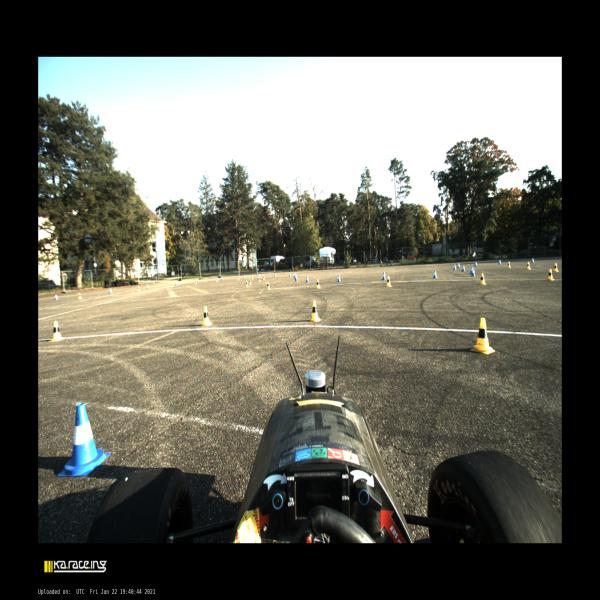blue_cone: (57, 402, 112, 478), (337, 274, 341, 282), (382, 272, 386, 280), (433, 270, 437, 278), (471, 268, 475, 276), (470, 266, 474, 274), (462, 264, 465, 272), (54, 295, 58, 300), (453, 264, 456, 270), (306, 276, 309, 282), (295, 276, 298, 281), (110, 288, 112, 293), (289, 272, 291, 277), (458, 263, 460, 268), (475, 261, 477, 266), (532, 258, 534, 263), (258, 273, 260, 278), (147, 285, 149, 289), (197, 279, 199, 283), (274, 273, 276, 277), (293, 273, 295, 277), (499, 260, 501, 264), (176, 282, 178, 285), (295, 274, 296, 279), (221, 278, 223, 280), (244, 275, 245, 278)
yellow_cone: (471, 318, 495, 354), (49, 320, 65, 343), (310, 300, 321, 322), (202, 307, 212, 326), (480, 273, 486, 285), (386, 276, 392, 287), (548, 269, 554, 280), (316, 279, 321, 289), (554, 263, 559, 272), (526, 262, 531, 269), (507, 261, 511, 268), (78, 292, 82, 299), (267, 282, 270, 290), (249, 279, 252, 285), (246, 280, 248, 287), (258, 276, 260, 282), (138, 286, 140, 291), (252, 275, 254, 280), (263, 275, 265, 280), (171, 283, 173, 287), (195, 280, 197, 284), (216, 278, 218, 282), (238, 276, 240, 280)
